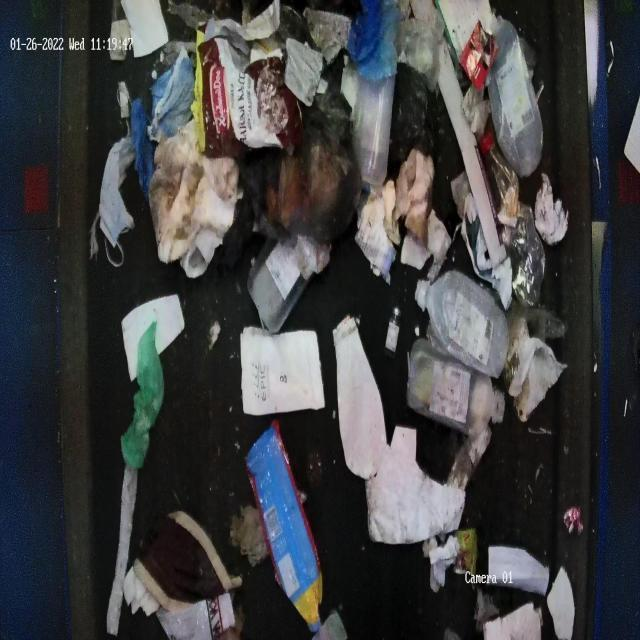other-trash: (90, 0, 579, 637)
